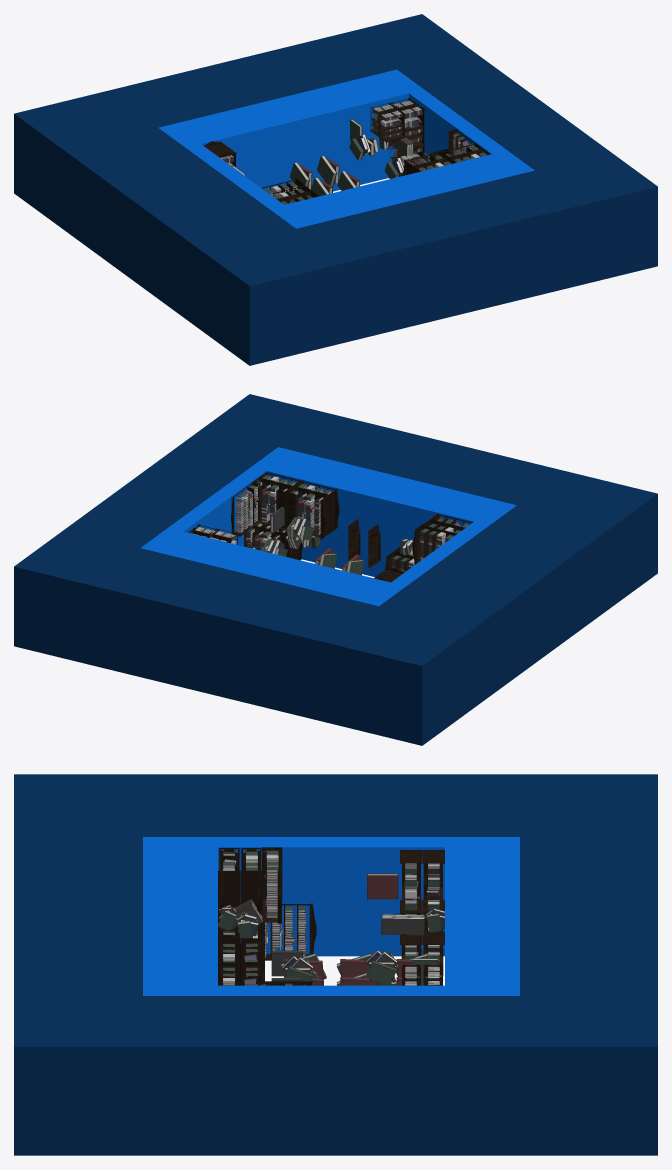
File: FaceD2.glb
The picture shows the model from 3 angles, top to bottom: view 1: azimuth 30°, elevation 25°; view 2: azimuth 150°, elevation 25°; view 3: azimuth 270°, elevation 25°; orthographic projection. The views are drawn at different scales.
Visible parts, largest first — view 1: paredeTRUETRUE-col.005, PlanoTrue-col.004, livros.00-col.005, livros.00-col.006, livros.00-col.016, livros.00-col.004, livros.00-col.007, PilhaDeLivros-col.023; view 2: paredeTRUETRUE-col.005, PlanoTrue-col.004, livros.00-col.016, livros.00-col.018, livros.00-col.007, livros.00-col.010, livros.00-col.014, livros.00-col.004; view 3: paredeTRUETRUE-col.005, PlanoTrue-col.004, livros.00-col.004, livros.00-col.009, livros.00-col.003, livros.00-col.010, livros.00-col.016, livros.00-col.013, livros.00-col.007, livrosSTACK-col.006, PilhaDeLivros-col.023, livros.078-col.009 (+3 smaller).
Part boxes in pixels (<box>): paredeTRUETRUE-col.005: <box>14,14,657,365</box>; PlanoTrue-col.004: <box>158,69,534,228</box>; livros.00-col.005: <box>370,102,405,142</box>; livros.00-col.006: <box>391,98,424,151</box>; livros.00-col.016: <box>402,152,454,175</box>; livros.00-col.004: <box>269,184,319,204</box>; livros.00-col.007: <box>440,143,490,163</box>; PilhaDeLivros-col.023: <box>349,134,378,160</box>; paredeTRUETRUE-col.005: <box>14,394,657,745</box>; PlanoTrue-col.004: <box>141,447,516,606</box>; livros.00-col.016: <box>287,480,339,539</box>; livros.00-col.018: <box>231,482,260,537</box>; livros.00-col.007: <box>251,472,301,530</box>; livros.00-col.010: <box>412,524,456,564</box>; livros.00-col.014: <box>244,526,284,550</box>; livros.00-col.004: <box>423,513,472,534</box>; paredeTRUETRUE-col.005: <box>14,774,657,1155</box>; PlanoTrue-col.004: <box>143,837,519,995</box>; livros.00-col.004: <box>218,848,262,924</box>; livros.00-col.009: <box>400,850,444,911</box>; livros.00-col.003: <box>265,902,316,960</box>; livros.00-col.010: <box>262,847,282,923</box>; livros.00-col.016: <box>218,938,262,962</box>; livros.00-col.013: <box>400,931,444,975</box>; livros.00-col.007: <box>218,962,262,985</box>; livrosSTACK-col.006: <box>381,914,424,935</box>; PilhaDeLivros-col.023: <box>365,949,398,985</box>; livros.078-col.009: <box>367,873,398,899</box>.
Size of the model in its own units: 509 by 97.87 by 509.
283 materials, 280 textured.
